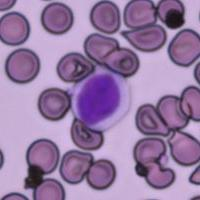L: (69, 66, 132, 132)
